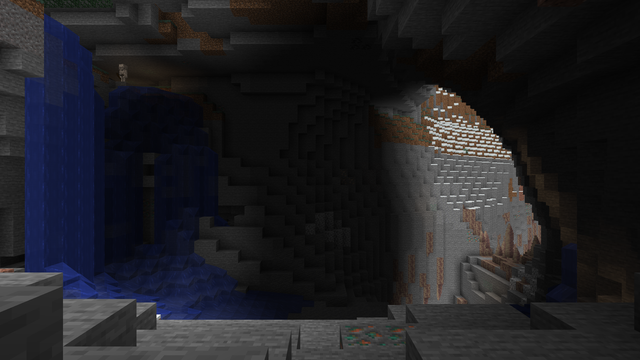squelettes: (118, 64, 128, 81)
